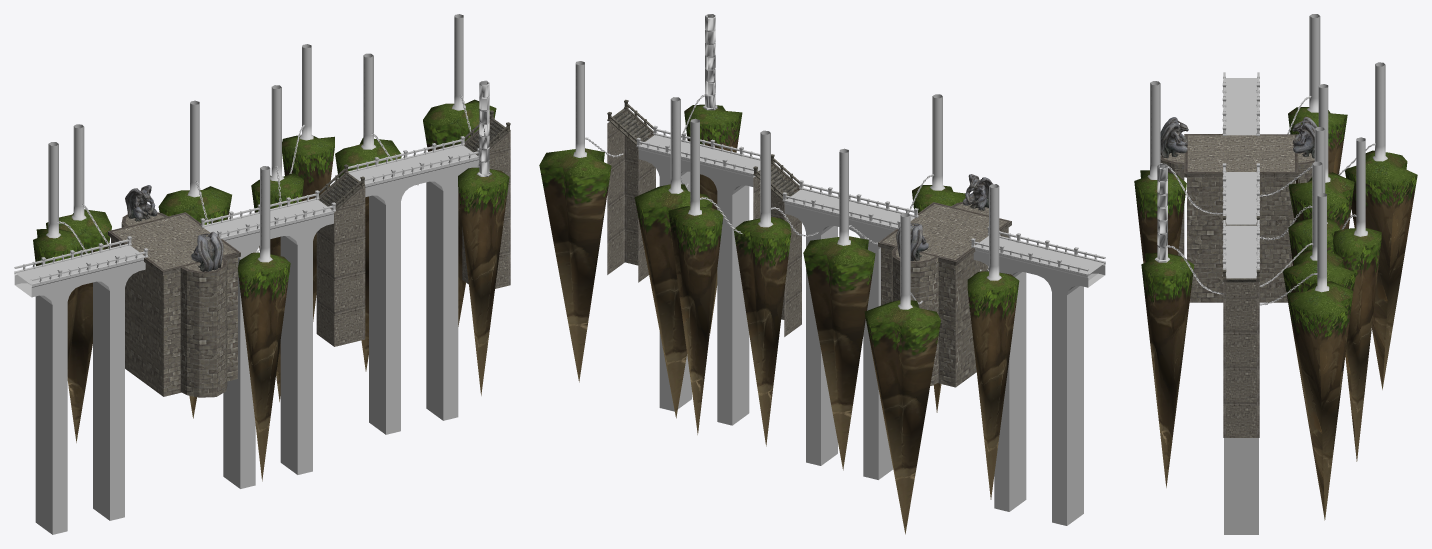
Rendered from Area_006.FBX.
3 views of the same model, side by side, from view 1: azimuth 30°, elevation 25°; view 2: azimuth 150°, elevation 25°; view 3: azimuth 270°, elevation 25° (orthographic). The views are drawn at different scales.
Visible parts, largest first — view 1: Area_006; view 2: Area_006; view 3: Area_006.
Boxes of the visible parts, x1,y1,x2,y2 form: Area_006: (14, 14, 510, 534); Area_006: (539, 14, 1105, 534); Area_006: (1134, 14, 1417, 534).
Bounding box in the file's own units: 8911 × 6267 × 4165.
